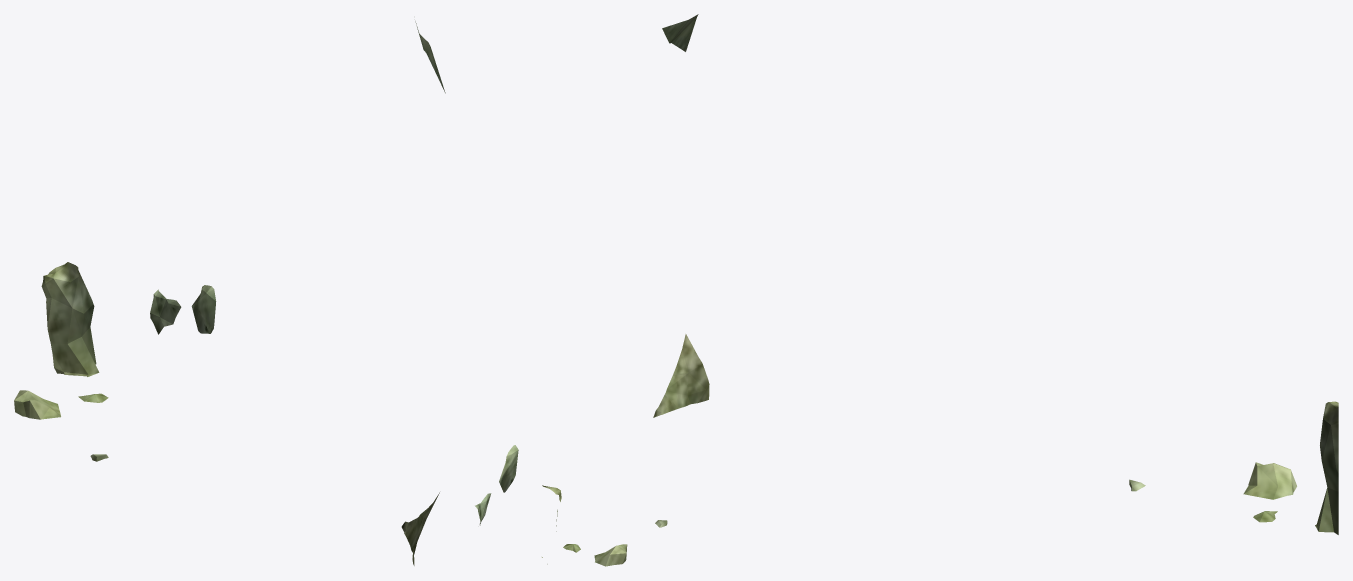
3 renders of one model, left to right at view 1: azimuth 30°, elevation 25°; view 2: azimuth 150°, elevation 25°; view 3: azimuth 270°, elevation 25°, orthographic. The views are drawn at different scales.
Bounding box in the file's own units: 2.08 × 5.9 × 5.9.
1 material, 1 textured.
